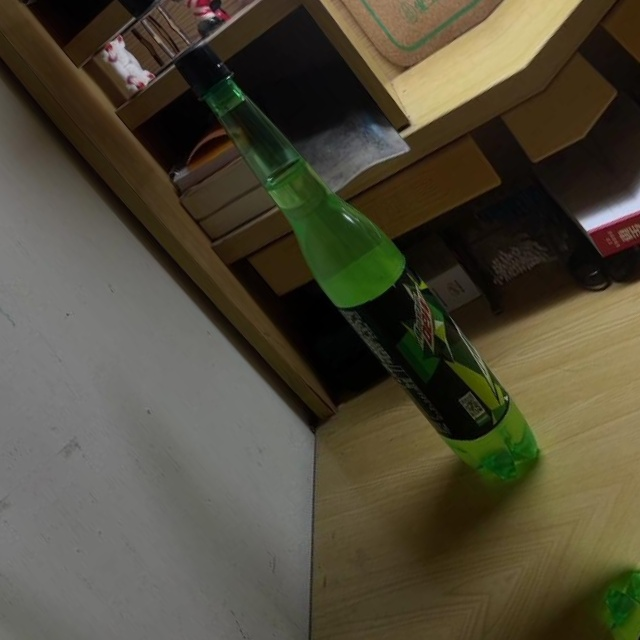Mountain-Dew: (145, 25, 566, 503)
